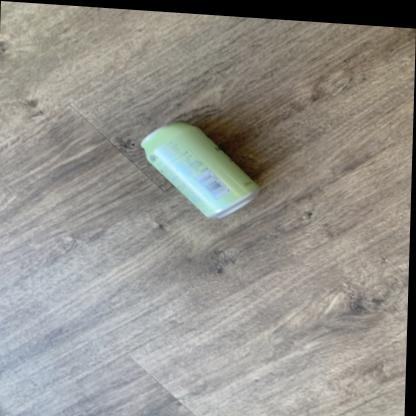trash: (141, 123, 257, 217)
